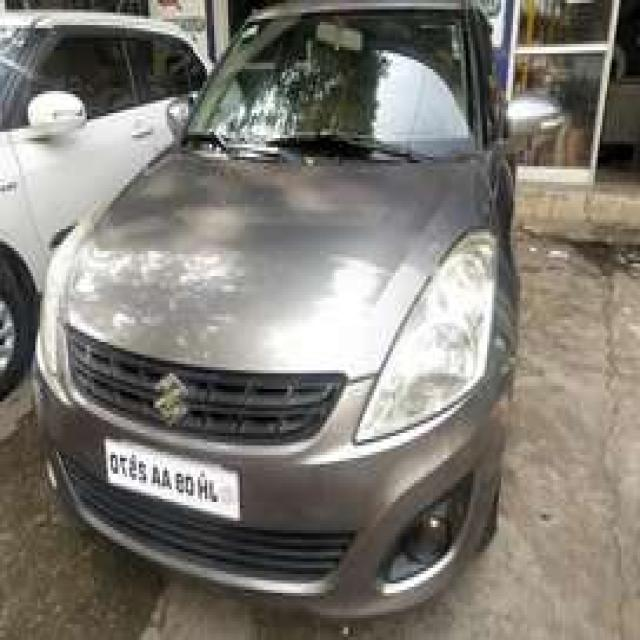license_plate: (102, 433, 244, 528)
